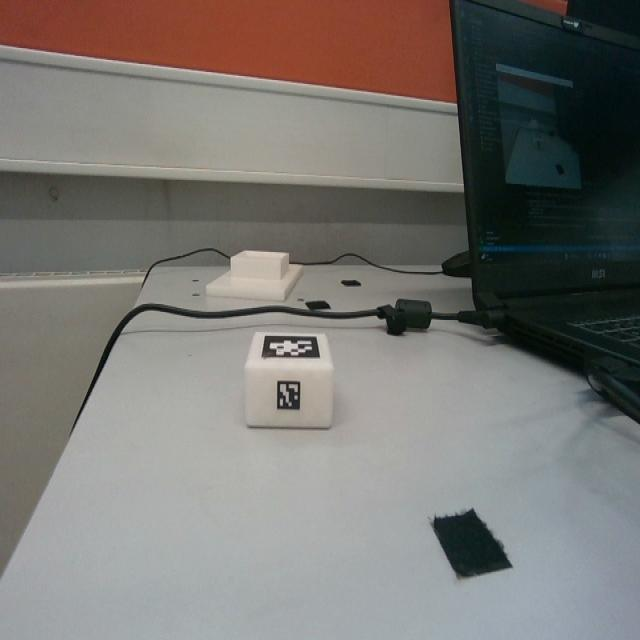Cube: (243, 332, 334, 428)
